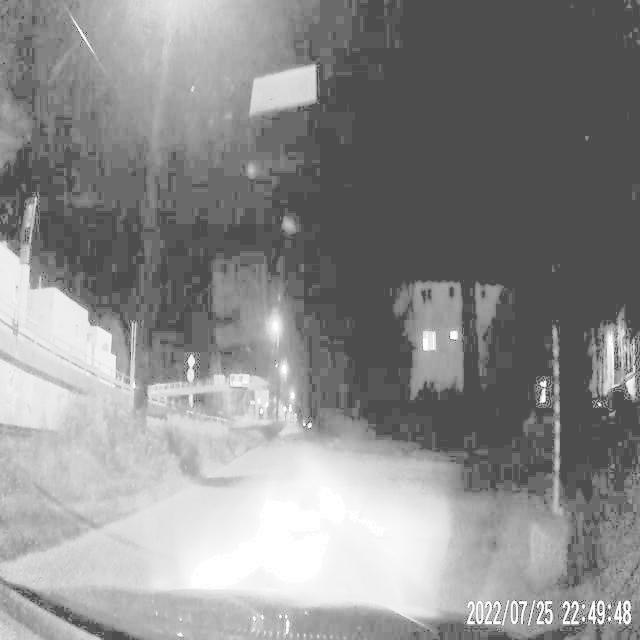Pothole: (284, 499, 321, 543), (343, 508, 390, 538)
